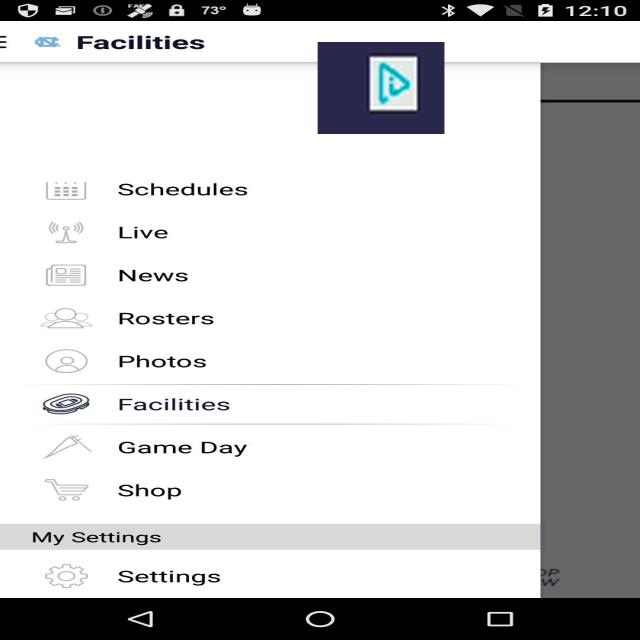sneaking: (318, 42, 444, 134)
